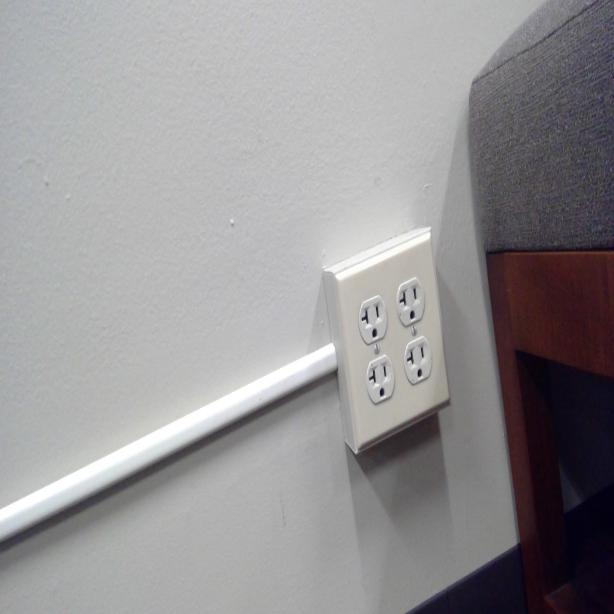typeb: (403, 341, 431, 381), (360, 299, 387, 340), (365, 359, 393, 398), (397, 282, 423, 322)
